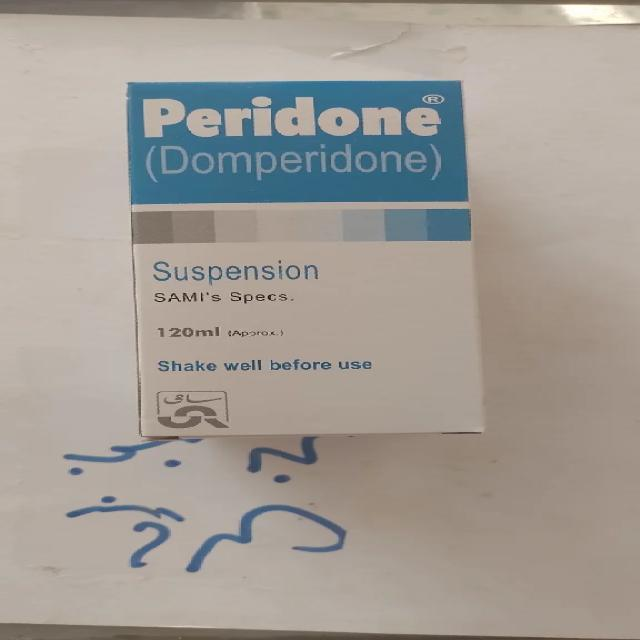drug-name: (140, 91, 443, 138)
